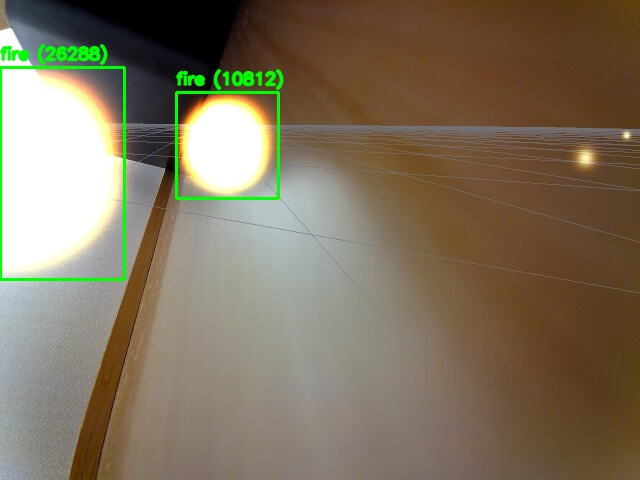fire: (0, 67, 124, 279), (176, 92, 278, 198)
